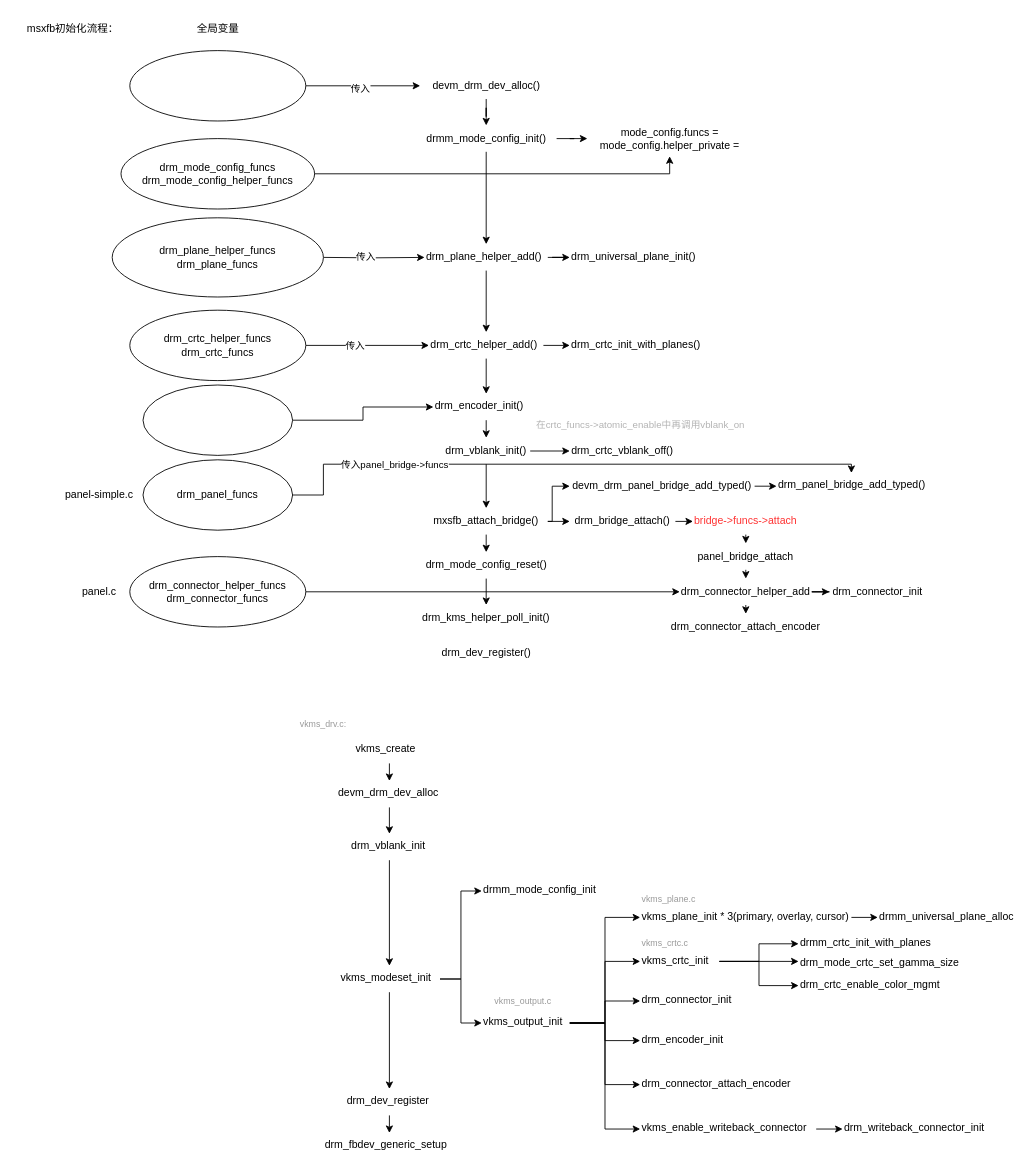
Some shapes in this 1033 by 1174 pixel diagram are drawn without their labels. Here are the shapes that lost their labels. From the top down, the box of each, then its label:
(129, 50, 306, 121): drm_driver
(142, 384, 293, 455): drm_encoder_funcs
